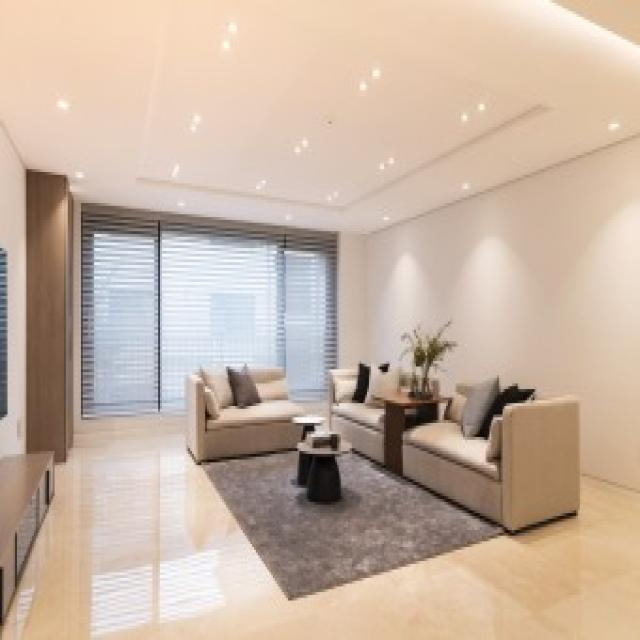Sofa: (330, 353, 583, 528), (179, 344, 308, 450)
Table: (292, 404, 346, 501)
window: (84, 198, 338, 388)
